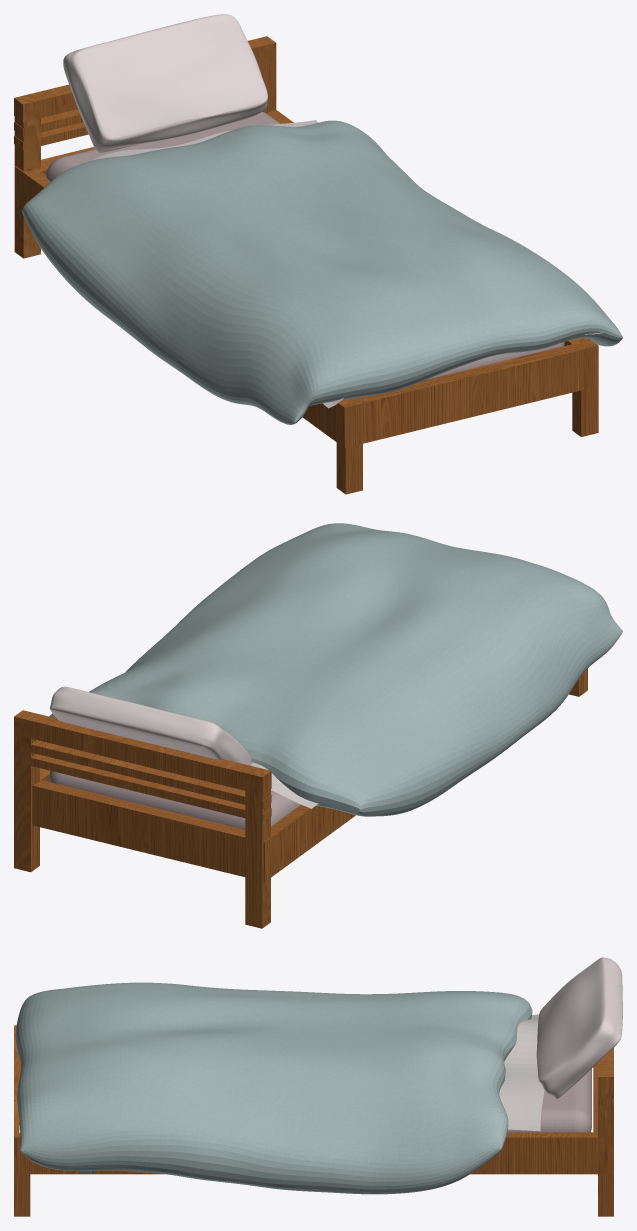
The model's file is semi_single_bed.fbx.
3 views of the same model, one above another, from view 1: azimuth 30°, elevation 25°; view 2: azimuth 150°, elevation 25°; view 3: azimuth 270°, elevation 25° (orthographic). The views are drawn at different scales.
Parts seen in each view (by area): view 1: coversheet_GEO, Cube.001, Cube.010, Cube.006, Plane.001; view 2: coversheet_GEO, Cube.001, Cube.010, Cube.006; view 3: coversheet_GEO, Cube.001, Cube.010, Plane.001, Cube.006.
Part boxes in pixels (x1,y1,x2,y2): coversheet_GEO: (22, 120, 622, 424); Cube.001: (14, 36, 598, 494); Cube.010: (63, 14, 267, 152); Cube.006: (46, 112, 564, 379); Plane.001: (92, 120, 602, 408); coversheet_GEO: (49, 523, 622, 816); Cube.001: (14, 668, 587, 928); Cube.010: (50, 686, 251, 765); Cube.006: (49, 771, 300, 829); coversheet_GEO: (15, 982, 532, 1194); Cube.001: (14, 1025, 613, 1216); Cube.010: (536, 957, 622, 1098); Plane.001: (19, 1014, 544, 1132); Cube.006: (507, 1068, 591, 1132).
Bounding box in the file's own units: 111 × 57.94 × 183.
Materials: 5 (5 with a texture image).
